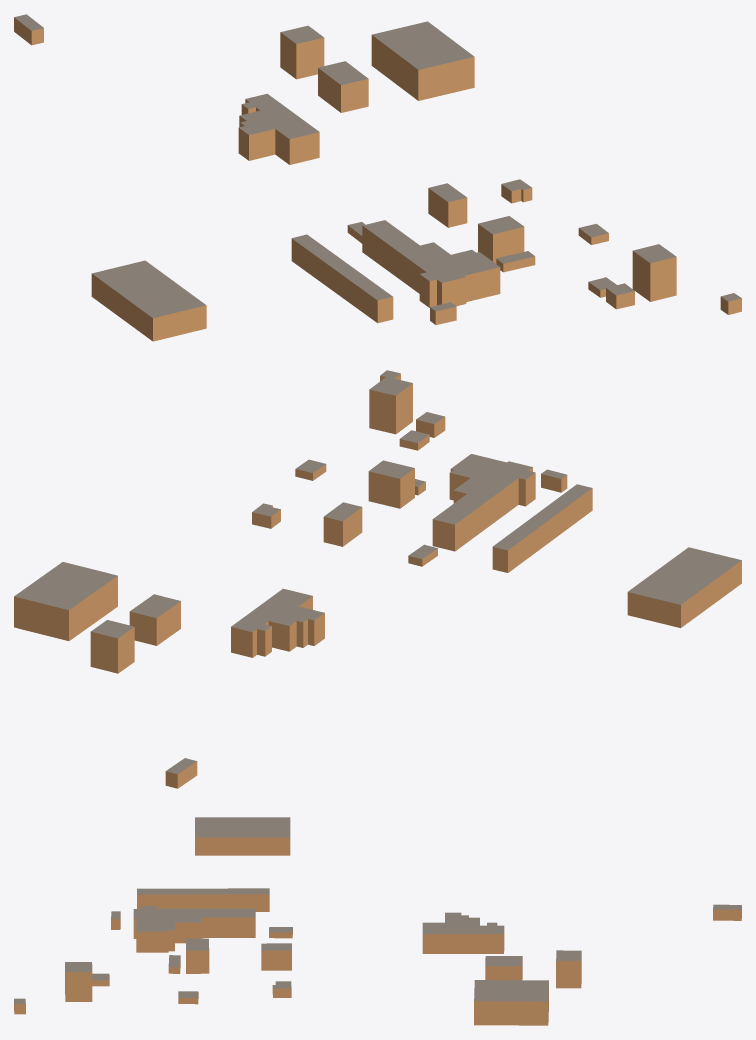
3 views of the same model, one above another, from view 1: azimuth 30°, elevation 25°; view 2: azimuth 150°, elevation 25°; view 3: azimuth 270°, elevation 25° (orthographic). The views are drawn at different scales.
Parts seen in each view (by area): view 1: element.012, element.004, element, element.016, element.008, element.018, element.002, element.001, element.007, element.010, element.003, element.013 (+2 smaller); view 2: element.012, element.004, element, element.016, element.008, element.018, element.001, element.002, element.007, element.010, element.003; view 3: element.012, element.004, element, element.016, element.008, element.018, element.001, element.002, element.010, element.007, element.003.
Boxes of the visible parts, left/top/right/bottom form: element.012: left=362, top=220, right=500, bottom=307; element.004: left=91, top=260, right=206, bottom=341; element: left=371, top=21, right=474, bottom=100; element.016: left=238, top=93, right=319, bottom=164; element.008: left=291, top=234, right=393, bottom=323; element.018: left=632, top=244, right=676, bottom=301; element.002: left=318, top=61, right=368, bottom=112; element.001: left=280, top=25, right=324, bottom=79; element.007: left=478, top=216, right=524, bottom=263; element.010: left=428, top=183, right=467, bottom=227; element.003: left=14, top=14, right=43, bottom=45; element.013: left=606, top=283, right=634, bottom=309; element.012: left=432, top=454, right=535, bottom=551; element.004: left=627, top=547, right=741, bottom=627; element: left=14, top=562, right=117, bottom=640; element.016: left=231, top=588, right=324, bottom=657; element.008: left=492, top=484, right=592, bottom=572; element.018: left=369, top=377, right=412, bottom=434; element.001: left=90, top=620, right=134, bottom=673; element.002: left=129, top=594, right=180, bottom=645; element.007: left=368, top=460, right=414, bottom=508; element.010: left=323, top=502, right=362, bottom=546; element.003: left=165, top=758, right=197, bottom=788; element.012: left=133, top=906, right=255, bottom=952; element.004: left=195, top=817, right=290, bottom=855; element: left=474, top=980, right=548, bottom=1025; element.016: left=422, top=912, right=504, bottom=953; element.008: left=137, top=888, right=269, bottom=911; element.018: left=65, top=962, right=92, bottom=1001; element.001: left=556, top=950, right=581, bottom=988; element.002: left=485, top=956, right=522, bottom=980; element.010: left=261, top=943, right=291, bottom=970; element.007: left=186, top=938, right=209, bottom=973; element.003: left=713, top=904, right=741, bottom=920.
Size of the model in its own units: 291 by 21.47 by 471.
